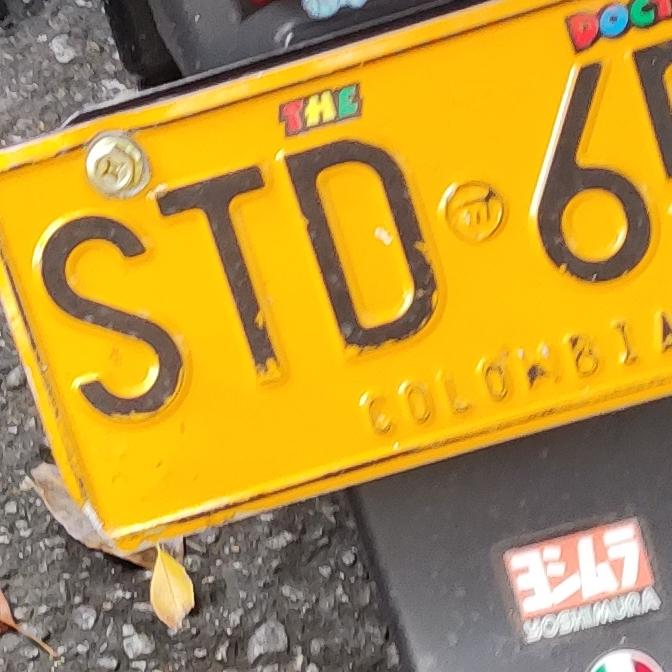plates: (0, 0, 672, 562)
